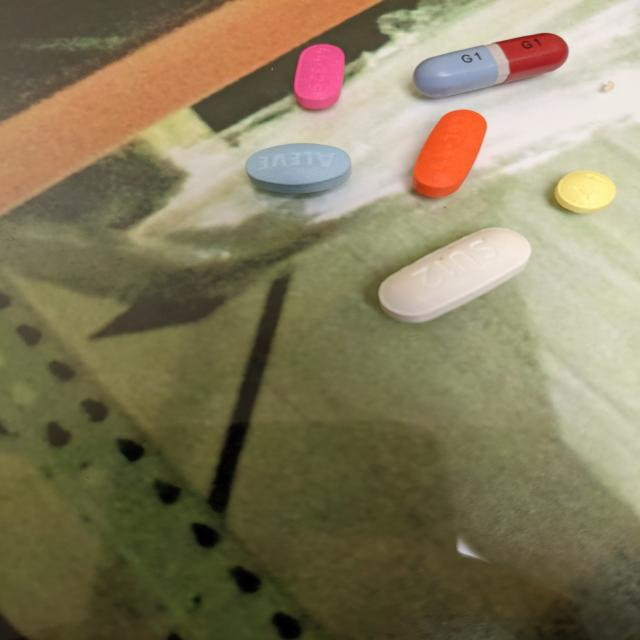non-organic waste: (376, 226, 534, 325), (412, 31, 571, 100), (410, 109, 488, 199), (244, 142, 354, 196), (292, 43, 346, 110), (553, 170, 618, 214)
